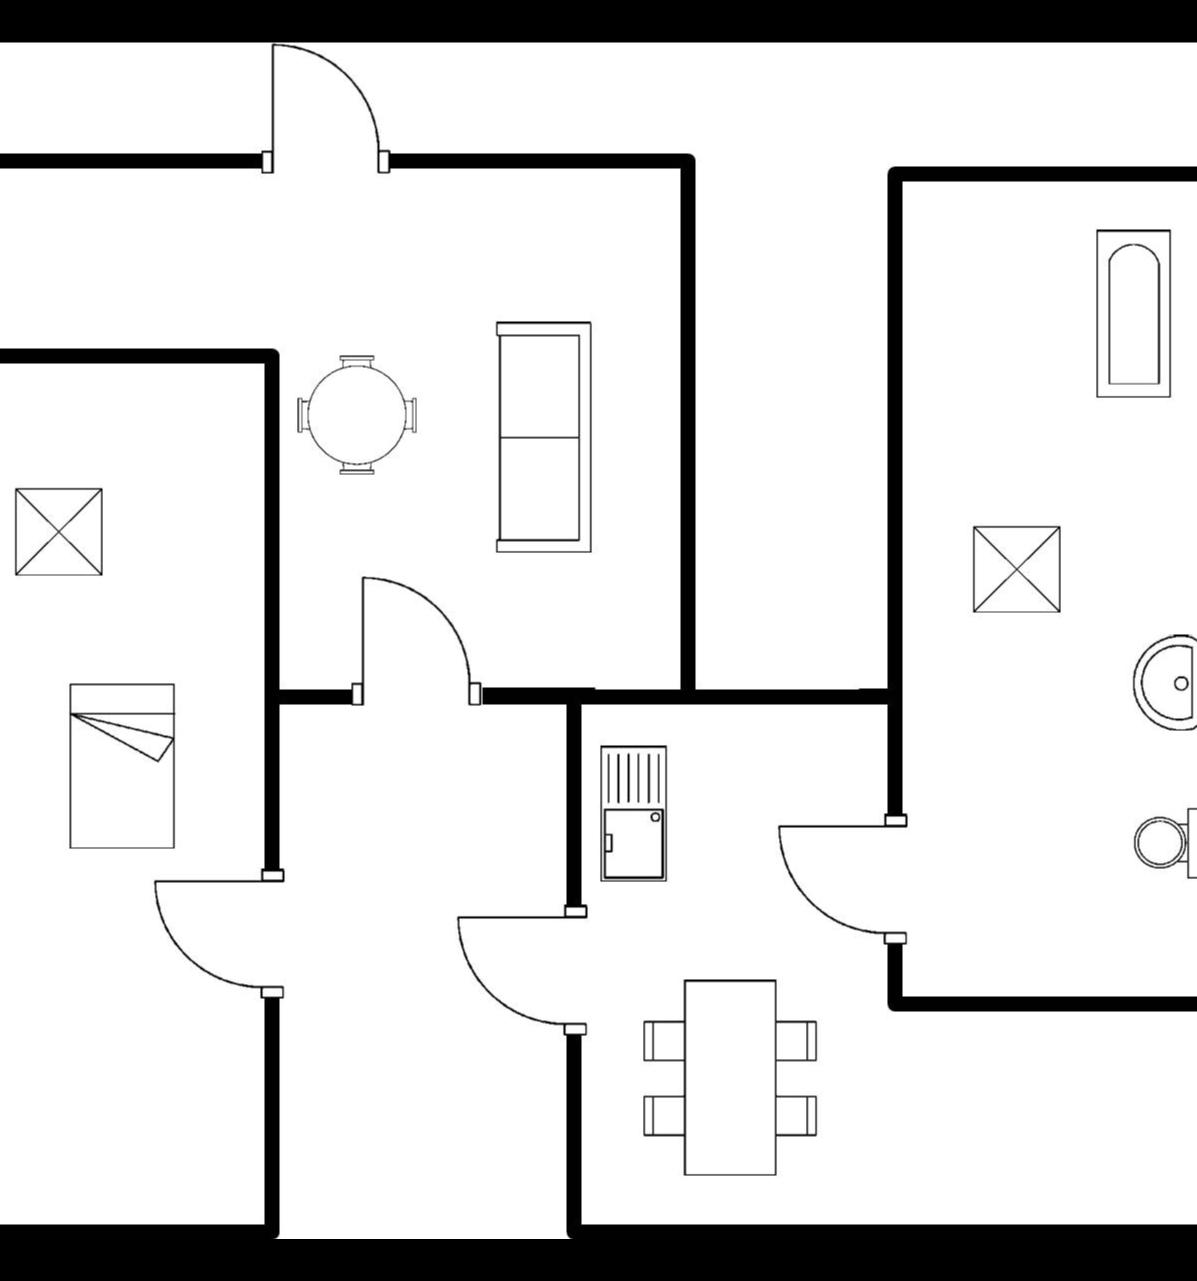bed: (61, 670, 191, 857)
dining_table: (636, 971, 823, 1184)
round_table: (288, 342, 425, 489)
sink: (589, 734, 676, 891)
sofa: (485, 309, 602, 559)
toilet: (1122, 792, 1197, 891)
tub: (1088, 215, 1173, 409)
